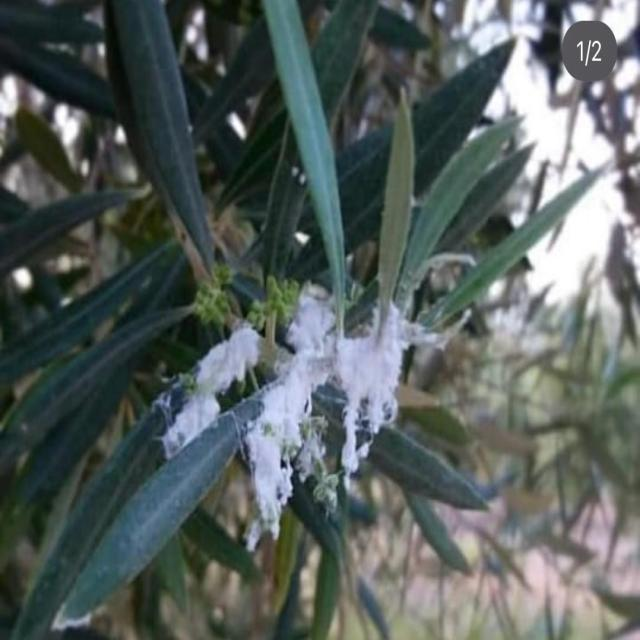Psyllid: (245, 293, 449, 549), (154, 324, 263, 458)
